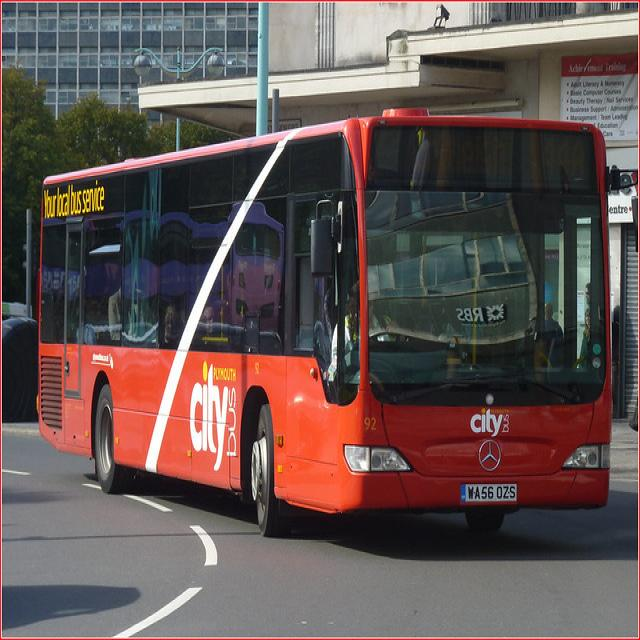Bus: (37, 111, 613, 532), (2, 302, 36, 418)
